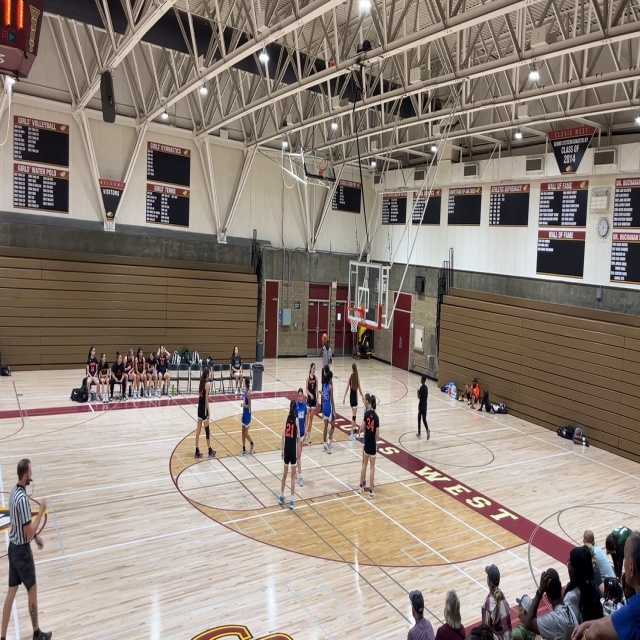Basketball: (322, 333, 328, 342)
